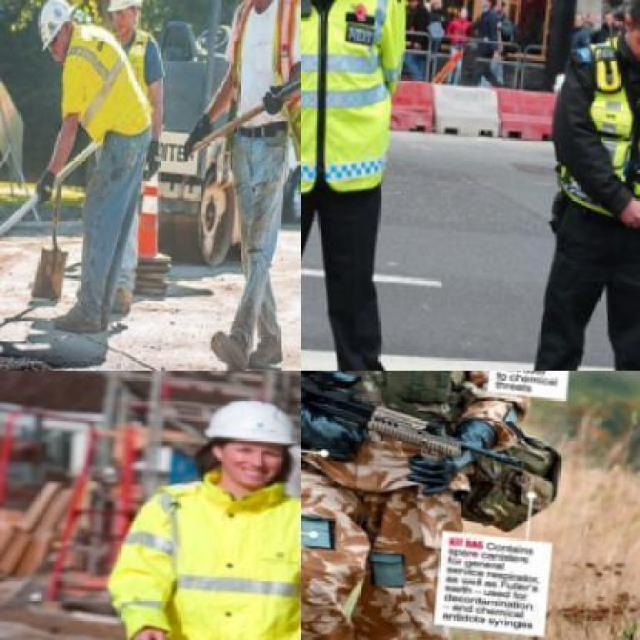vest: (97, 452, 298, 638), (300, 0, 427, 198), (300, 371, 480, 442), (574, 26, 638, 220), (63, 17, 165, 135), (224, 0, 298, 145), (110, 18, 168, 97)
